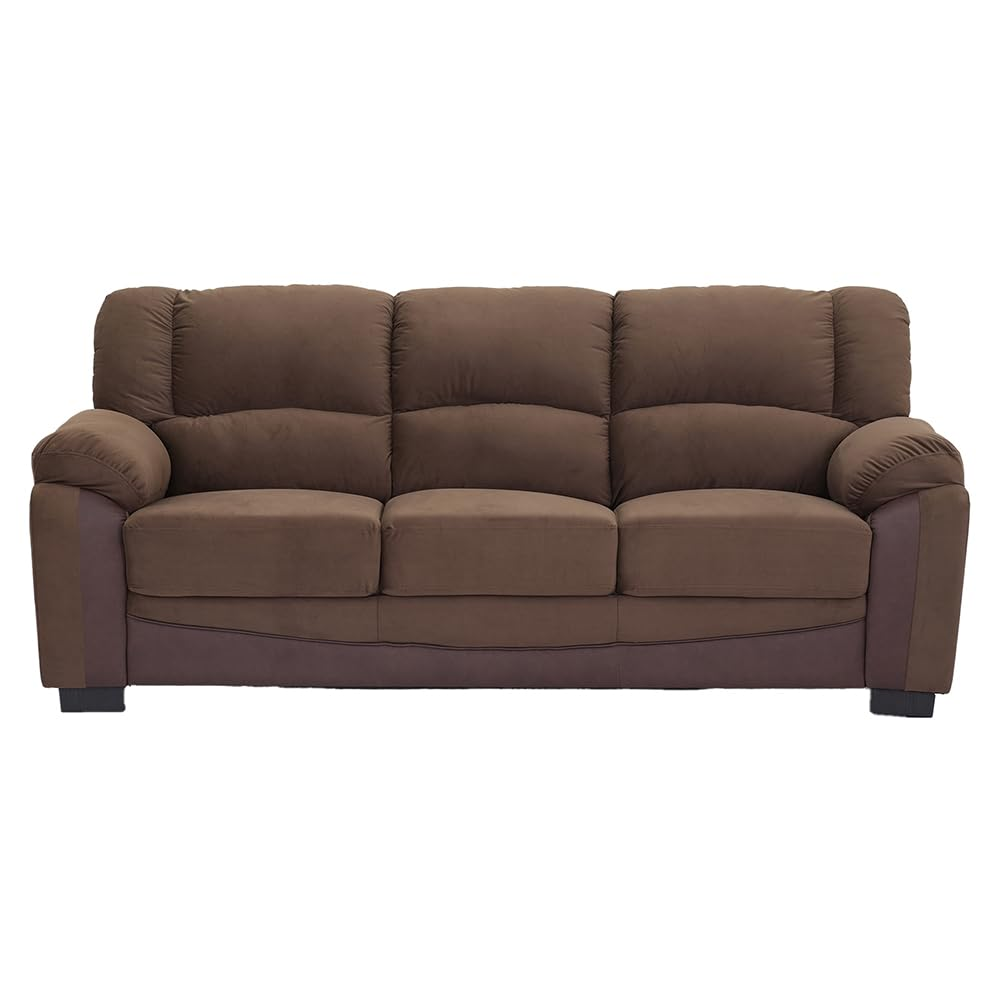3seatersofa: (32, 285, 968, 717)
backrest: (92, 290, 912, 488)
base: (135, 600, 865, 680)
leftarmrest: (825, 418, 968, 688)
leg: (55, 678, 125, 720), (870, 685, 938, 718)
rightarmrest: (32, 410, 168, 682)
seat: (128, 492, 872, 592)
